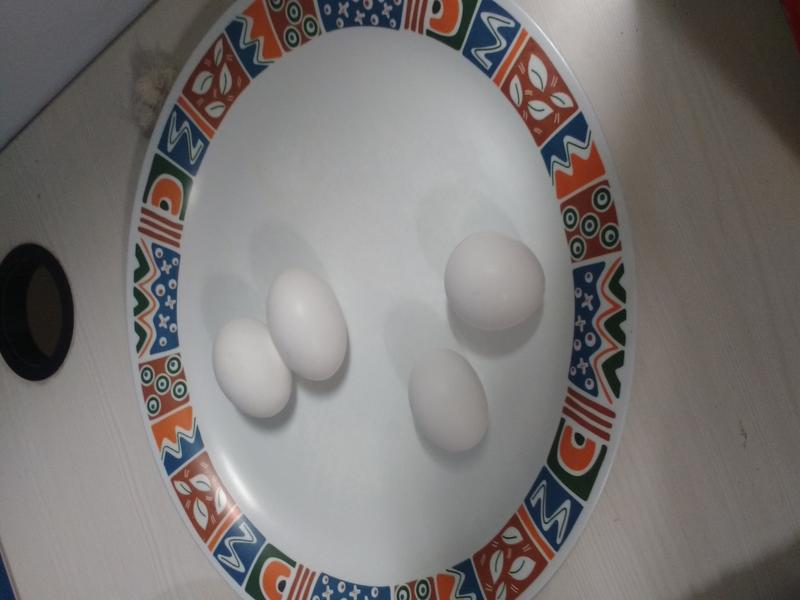egg: (217, 310, 299, 416)
